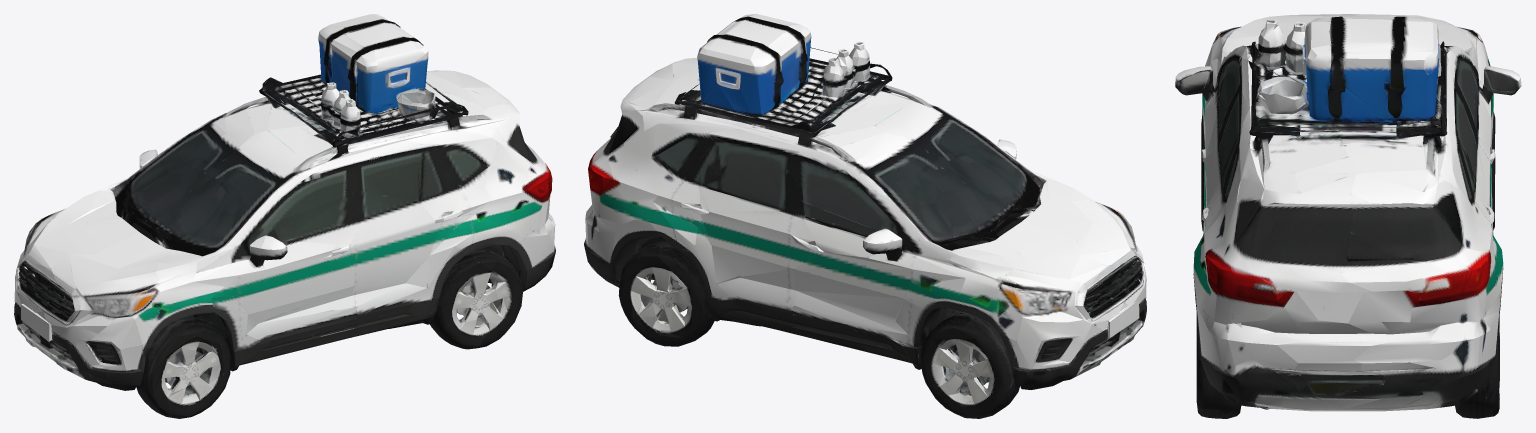
File: car_water.glb
3 views of the same model, side by side, from view 1: azimuth 30°, elevation 25°; view 2: azimuth 150°, elevation 25°; view 3: azimuth 270°, elevation 25° (orthographic). The views are drawn at different scales.
Size of the model in its own units: 1.9 by 1.03 by 0.9075.
1 material, 1 textured.
